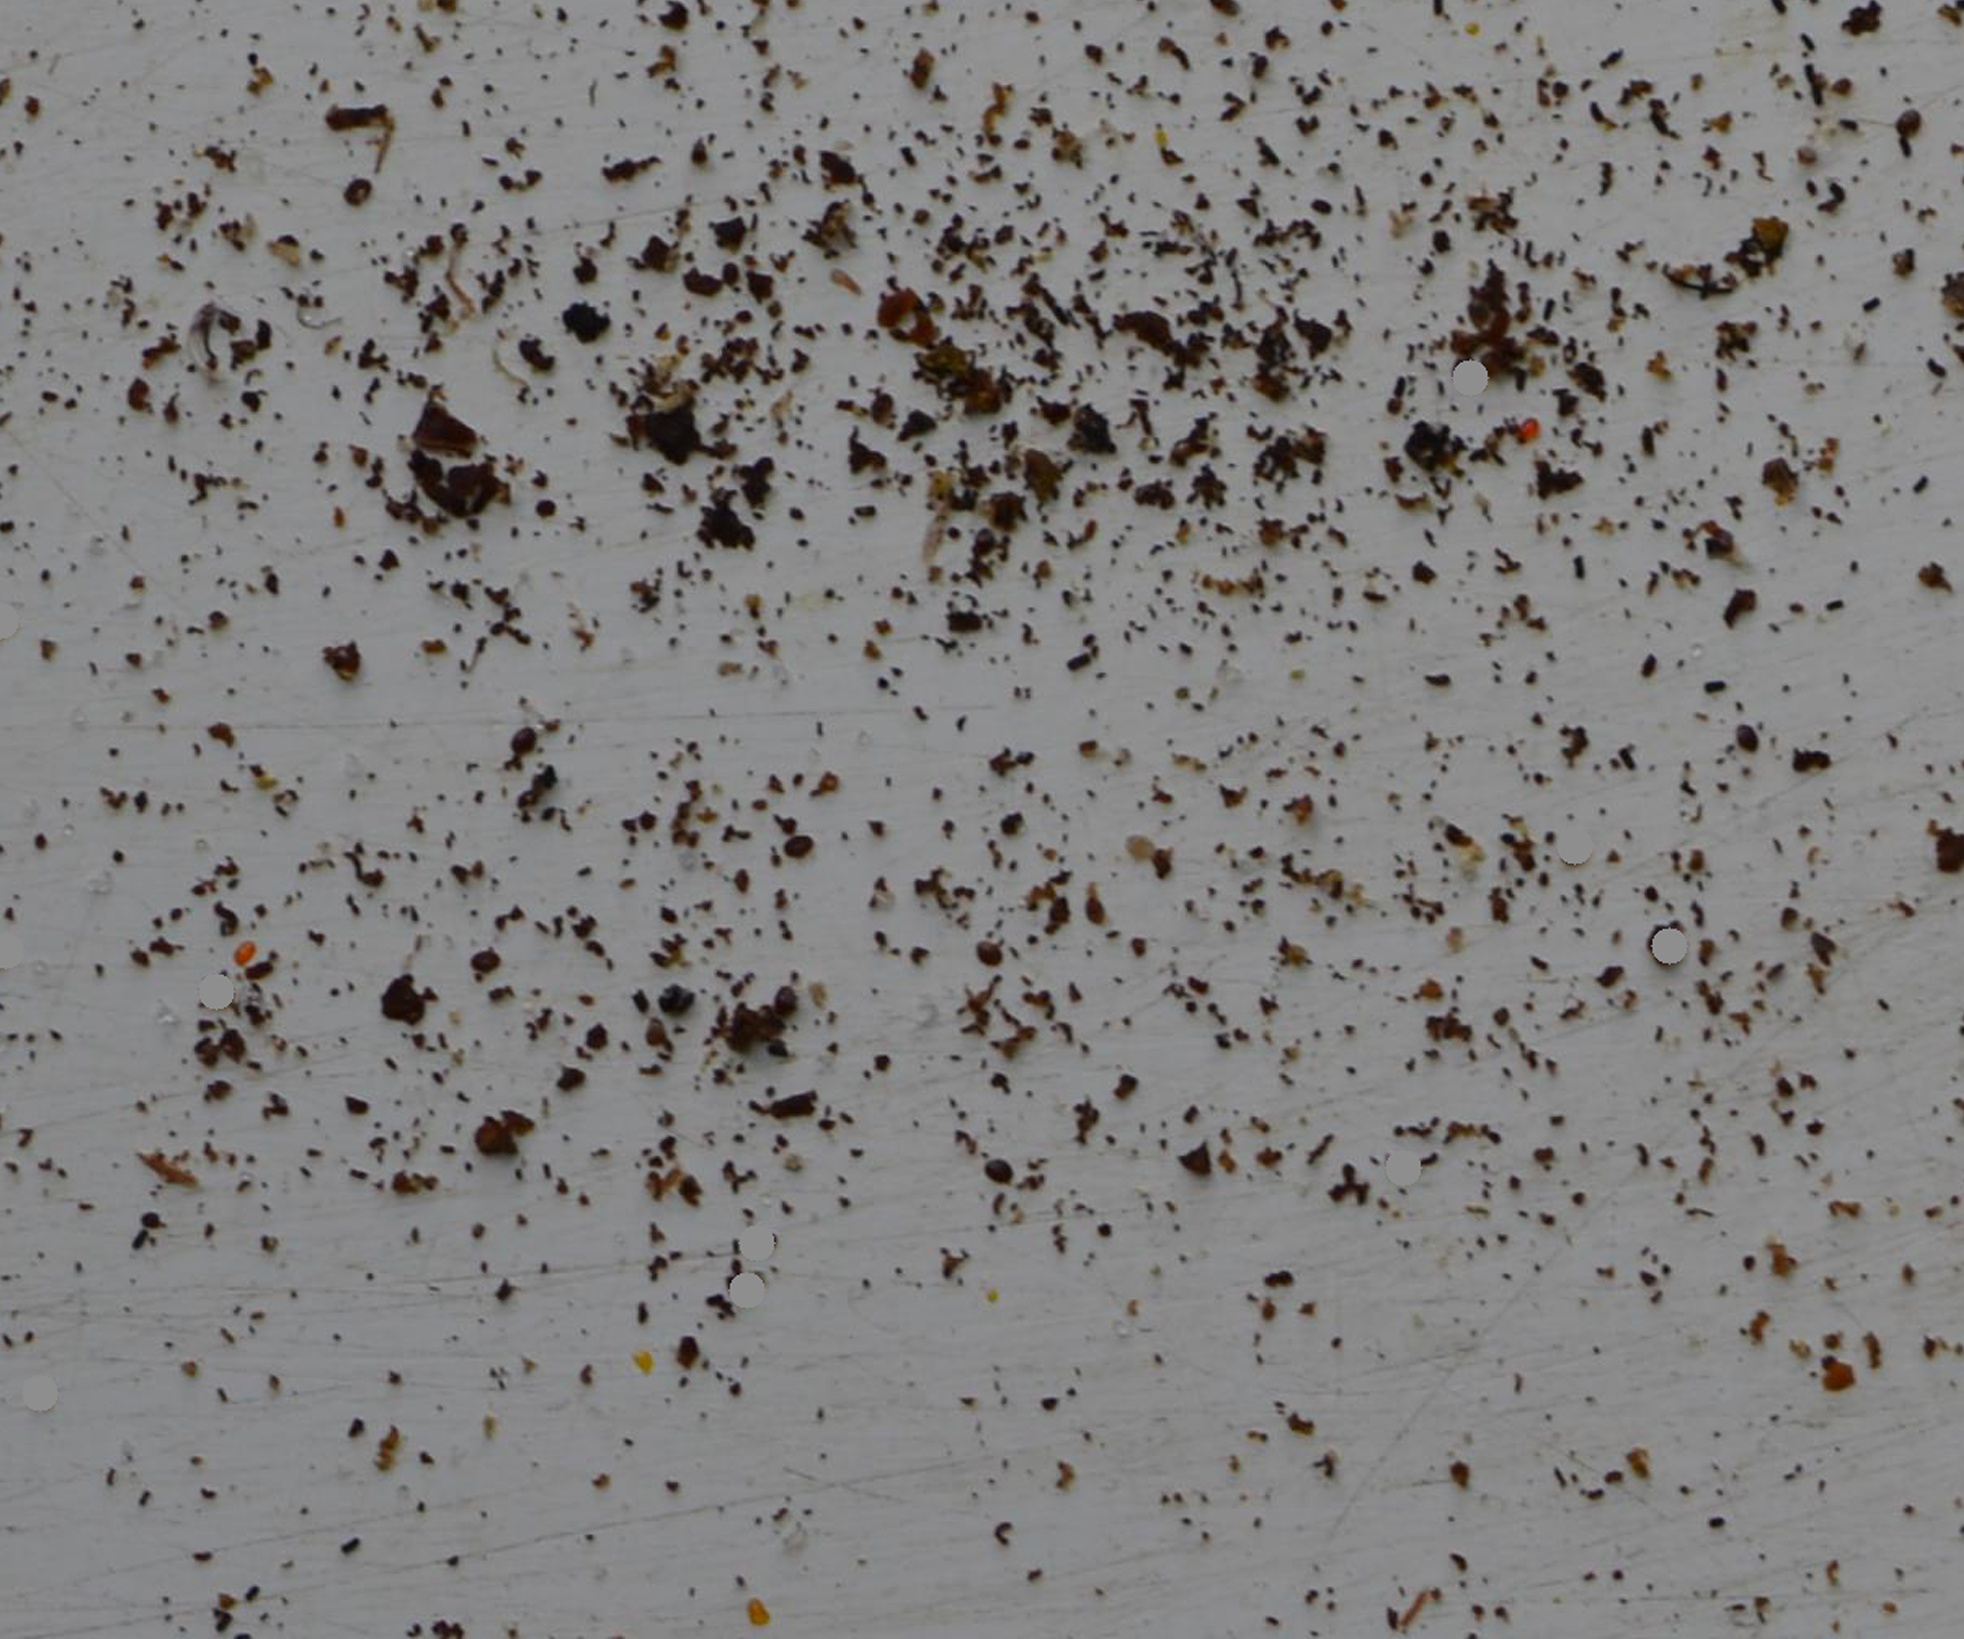Varroa: (502, 722, 542, 758), (868, 391, 900, 434), (780, 830, 816, 868), (338, 171, 374, 209), (1892, 111, 1926, 147), (966, 527, 1000, 561), (982, 1156, 1015, 1189), (1732, 721, 1765, 752), (964, 930, 997, 961), (767, 983, 798, 1014), (467, 944, 496, 974)
